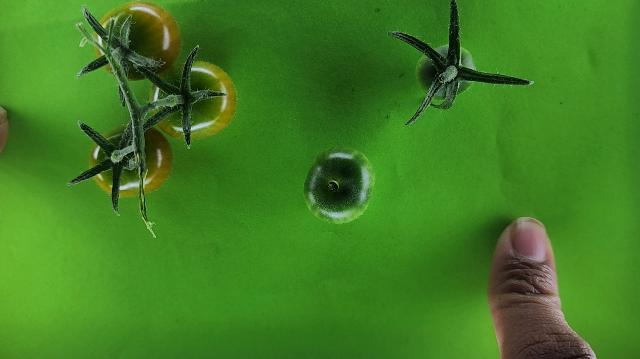Fruit Maturation: (303, 147, 375, 224), (416, 43, 475, 100)
Fully Grown: (93, 1, 181, 81), (150, 59, 237, 139), (89, 121, 174, 197)
